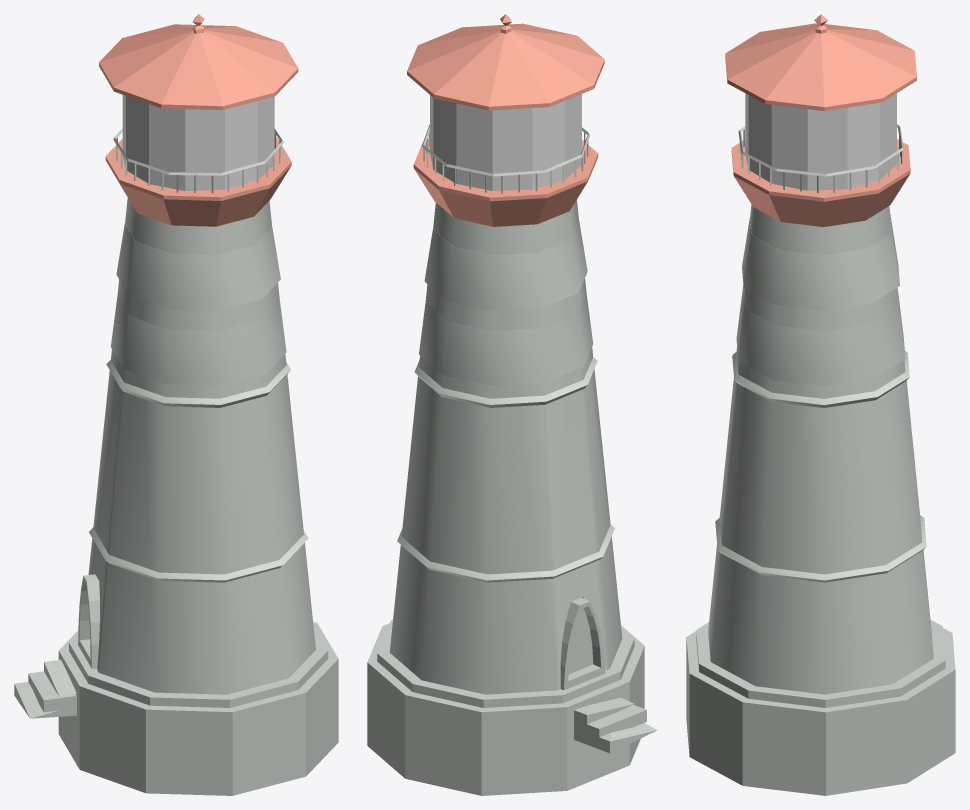
File: lighthouse_low_poly.glb
3 views of the same model, side by side, from view 1: azimuth 30°, elevation 25°; view 2: azimuth 150°, elevation 25°; view 3: azimuth 270°, elevation 25° (orthographic).
Parts seen in each view (by area): view 1: Boole_1, Stairs_1, Sphere_1, Tube, Cylinder_2, Door, Array_1; view 2: Boole_1, Stairs_1, Sphere_1, Tube, Cylinder_2, Door, Array_1; view 3: Boole_1, Stairs_1, Sphere_1, Tube, Cylinder_2, Array_1.
Part boxes in pixels (<box>): Boole_1: <box>88,197,315,694</box>; Stairs_1: <box>14,622,338,795</box>; Sphere_1: <box>99,14,298,110</box>; Tube: <box>122,95,274,191</box>; Cylinder_2: <box>105,137,291,226</box>; Door: <box>78,574,99,668</box>; Array_1: <box>113,128,283,193</box>; Boole_1: <box>389,200,622,694</box>; Stairs_1: <box>367,619,657,795</box>; Sphere_1: <box>407,14,604,110</box>; Tube: <box>430,94,581,190</box>; Cylinder_2: <box>413,138,598,226</box>; Door: <box>560,597,605,690</box>; Array_1: <box>422,124,590,193</box>; Boole_1: <box>708,204,933,694</box>; Stairs_1: <box>686,619,955,795</box>; Sphere_1: <box>725,14,916,110</box>; Tube: <box>745,93,896,190</box>; Cylinder_2: <box>731,139,910,226</box>; Array_1: <box>738,124,903,193</box>.
Size of the model in its own units: 22.74 by 55.92 by 18.86.
